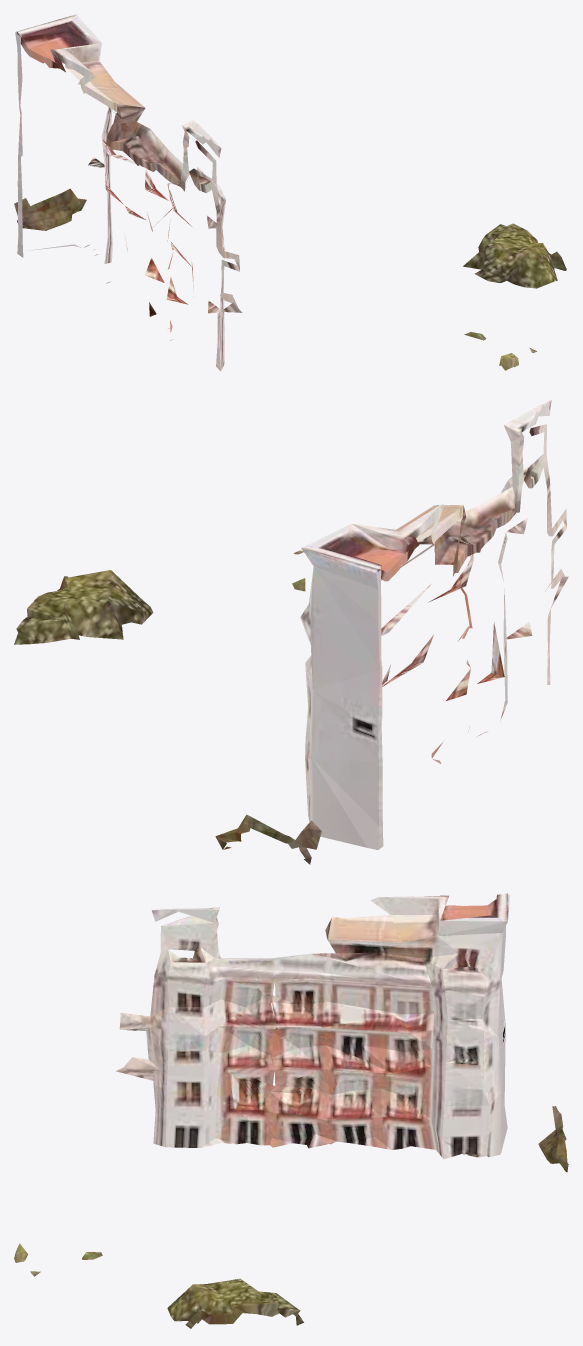
The picture shows the model from 3 angles, top to bottom: view 1: azimuth 30°, elevation 25°; view 2: azimuth 150°, elevation 25°; view 3: azimuth 270°, elevation 25°; orthographic projection. The views are drawn at different scales.
Parts seen in each view (by area): view 1: Mesh_0; view 2: Mesh_0; view 3: Mesh_0.
Boxes of the visible parts, x1,y1,x2,y2 form: Mesh_0: (14,14,566,371); Mesh_0: (14,400,568,864); Mesh_0: (14,893,568,1328).
Size of the model in its own units: 32.23 by 17.82 by 37.12.
1 material, 1 textured.
